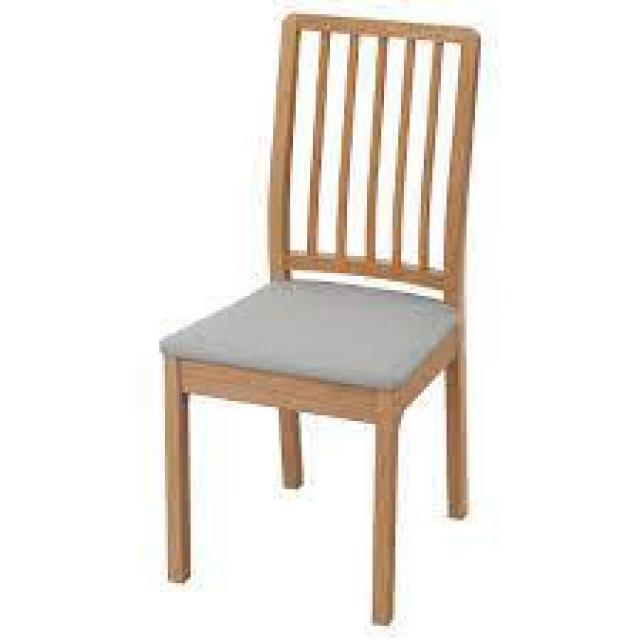chair: (144, 8, 502, 623)
